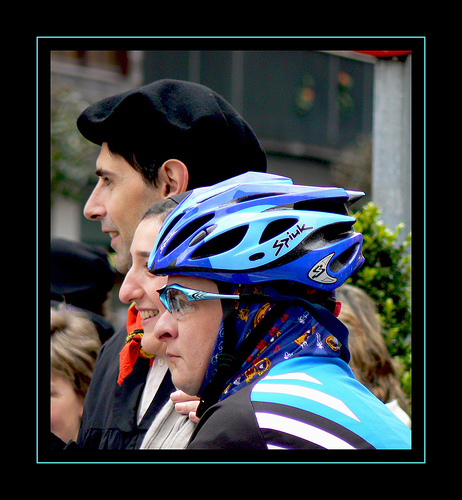helmet: (137, 165, 379, 306)
